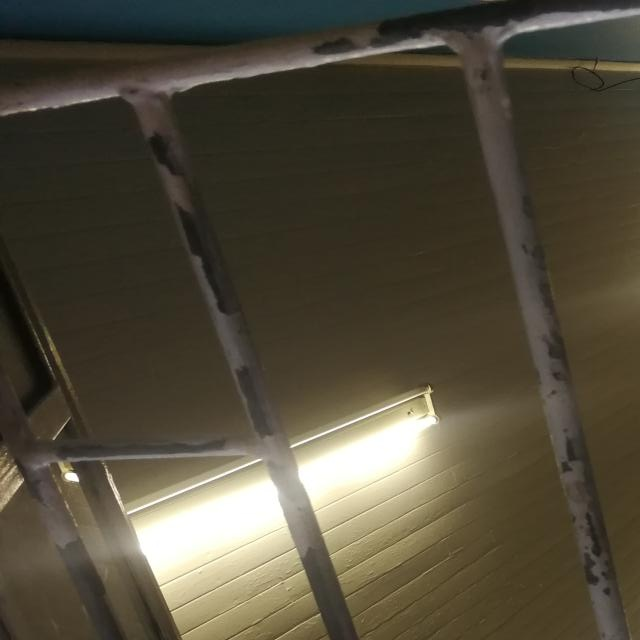fluorescent tube: (88, 356, 480, 609)
